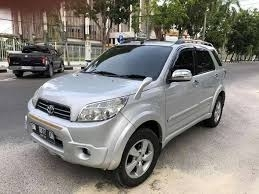plate: (30, 122, 54, 143)
